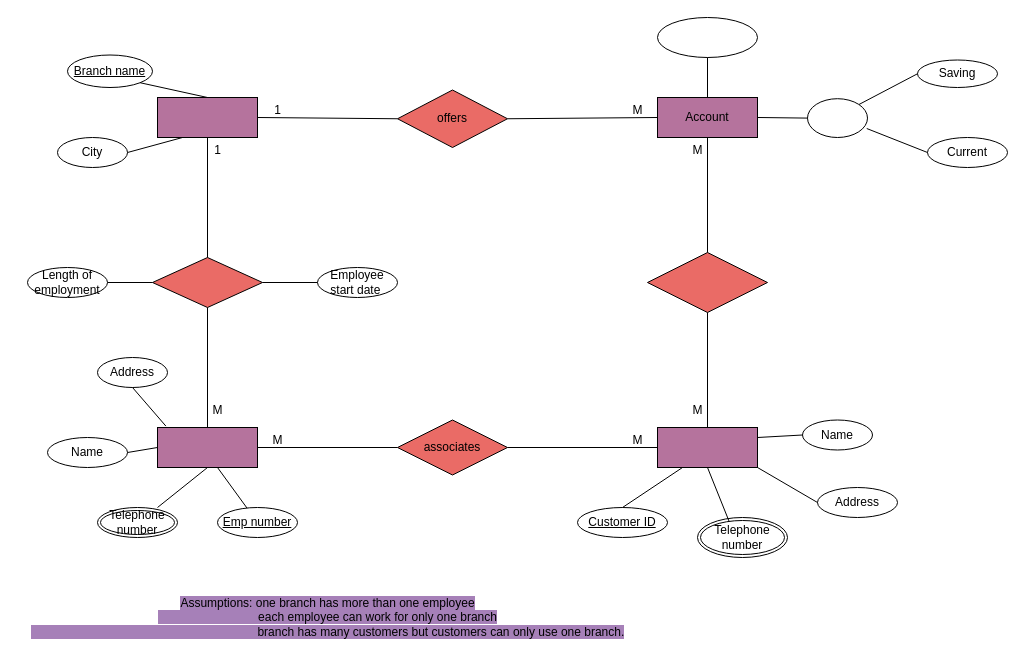
The diagram is 1025 pixels wide and 665 high, and some of its shapes have lost their labels. Here are the shapes that lost their labels. From the top down, the centre of each, then its label:
At point 707,37: "Account number".
At point 207,117: "Branch".
At point 837,118: "Type".
At point 207,282: "has".
At point 707,282: "helds by".
At point 207,447: "Employee".
At point 707,447: "Customer".
